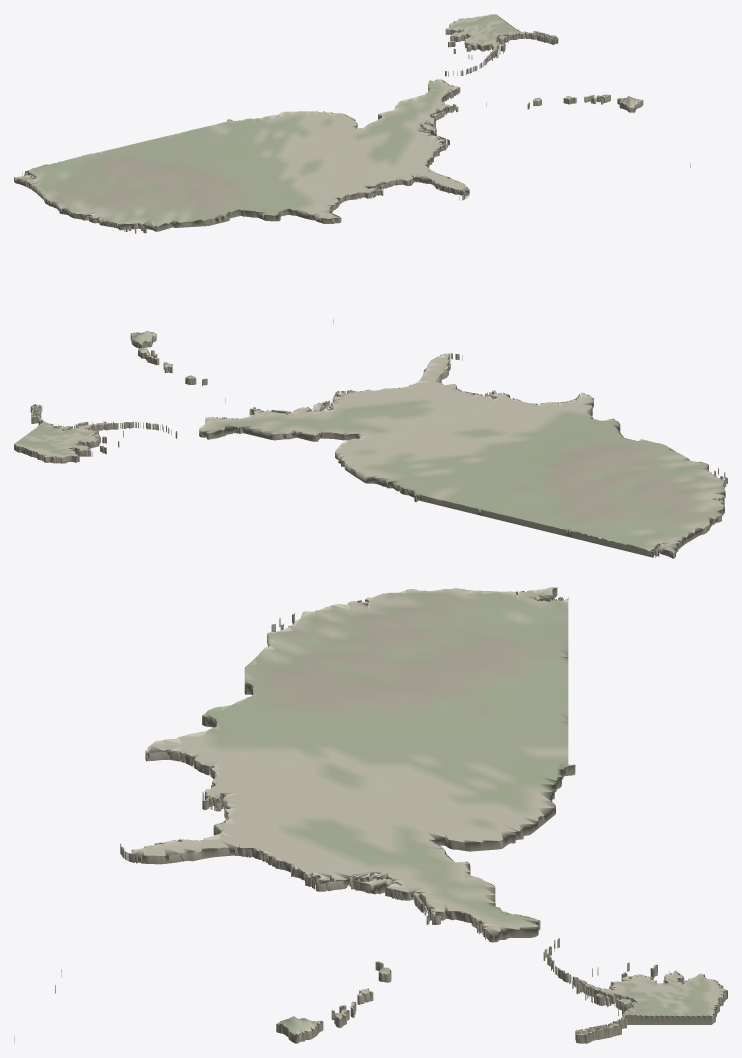
File: us-mobile.glb
3 renders of one model, top to bottom at view 1: azimuth 30°, elevation 25°; view 2: azimuth 150°, elevation 25°; view 3: azimuth 270°, elevation 25°, orthographic. The views are drawn at different scales.
Size of the model in its own units: 129 by 2.23 by 86.78.
